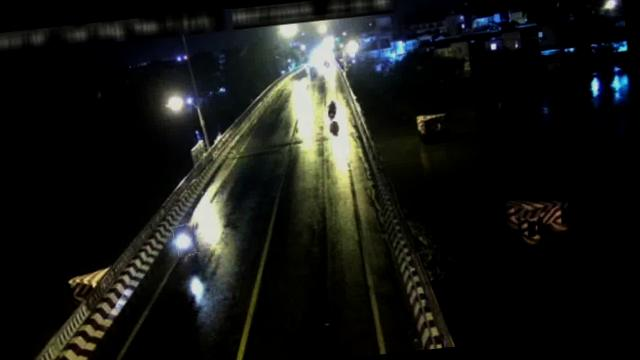Bike: (173, 224, 200, 257), (326, 99, 340, 122)
